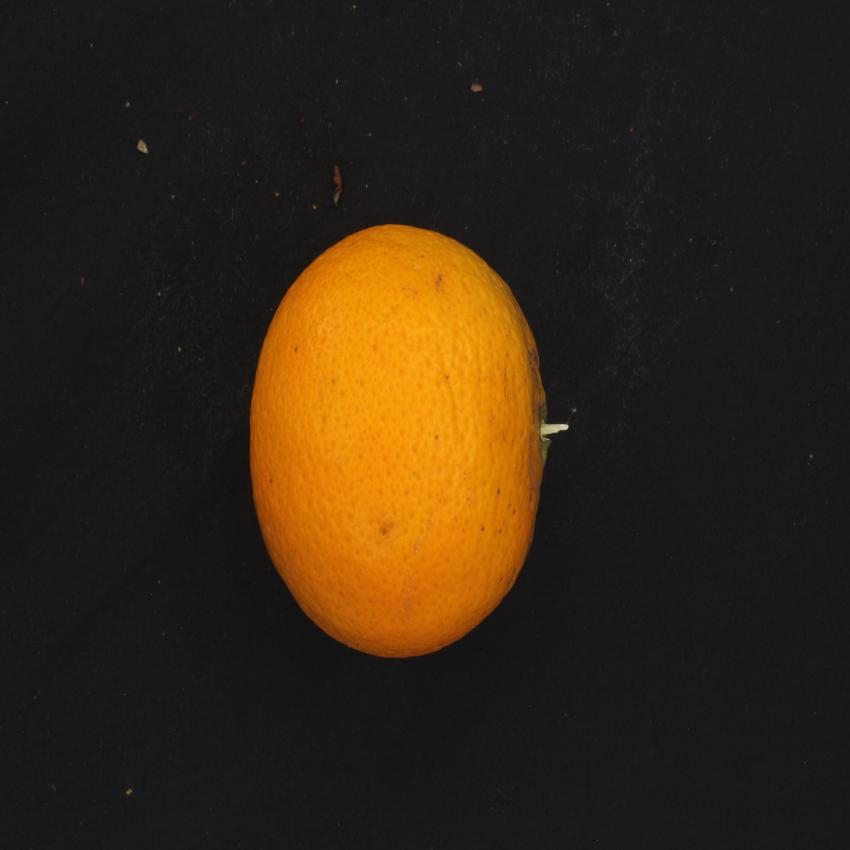Buen estado: (242, 215, 565, 665)
